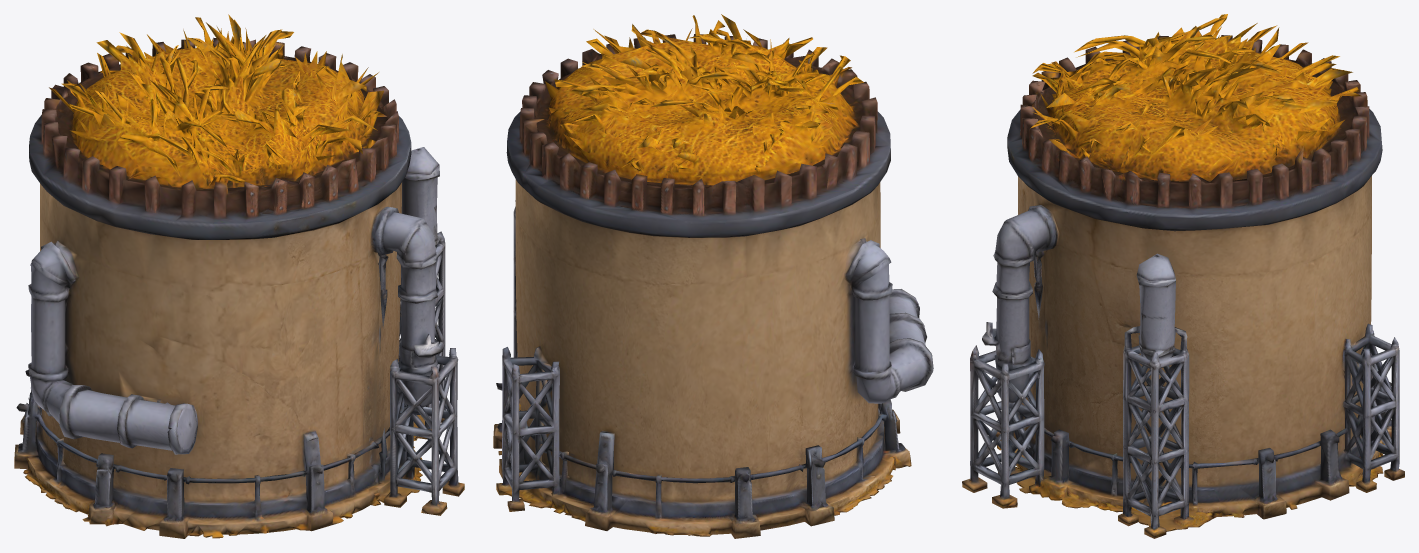
Rendered from 02_大型圆柱塔楼_2048.fbx.
3 views of the same model, side by side, from view 1: azimuth 30°, elevation 25°; view 2: azimuth 150°, elevation 25°; view 3: azimuth 270°, elevation 25° (orthographic). The views are drawn at different scales.
Visible parts, largest first — view 1: tripo_node_d907e30f; view 2: tripo_node_d907e30f; view 3: tripo_node_d907e30f.
Boxes of the visible parts, bbox=[...] form: tripo_node_d907e30f: bbox=[14, 14, 464, 538]; tripo_node_d907e30f: bbox=[493, 14, 933, 538]; tripo_node_d907e30f: bbox=[962, 14, 1404, 538].
Size of the model in its own units: 0.9809 by 0.9313 by 0.9489.
